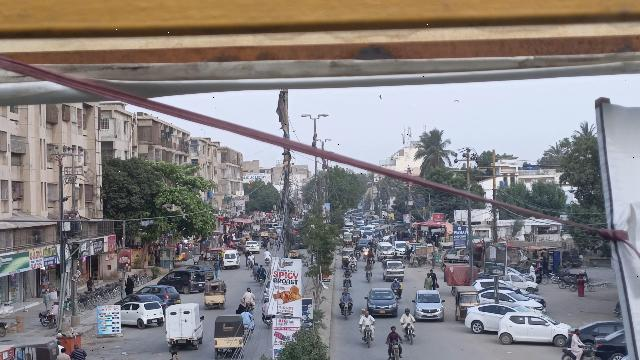Bike: (561, 345, 600, 360), (359, 324, 376, 350), (387, 342, 404, 360), (340, 300, 352, 322), (404, 323, 415, 345), (240, 324, 252, 341), (263, 313, 273, 332), (363, 270, 374, 284), (246, 300, 254, 314), (344, 275, 351, 289)
Car: (496, 308, 570, 345), (463, 301, 533, 332), (119, 301, 164, 328), (157, 268, 206, 292), (411, 288, 446, 321), (364, 286, 399, 316), (139, 284, 181, 305), (113, 294, 167, 308)
Person: (570, 327, 585, 359), (385, 323, 401, 343), (358, 309, 377, 325), (400, 306, 416, 324), (241, 306, 253, 325), (242, 286, 255, 301), (422, 273, 434, 289), (341, 288, 351, 303), (342, 267, 352, 278), (364, 261, 373, 271)
Rickshaw: (212, 314, 246, 359), (452, 285, 481, 322), (203, 279, 228, 311)
Suzuki: (381, 255, 405, 282)
Truck: (162, 303, 207, 350)
